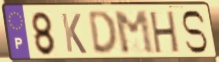8: (30, 10, 57, 58)
D: (87, 9, 120, 57)
H: (149, 10, 181, 56)
K: (59, 12, 89, 56)
M: (112, 10, 157, 57)
S: (179, 9, 209, 56)
